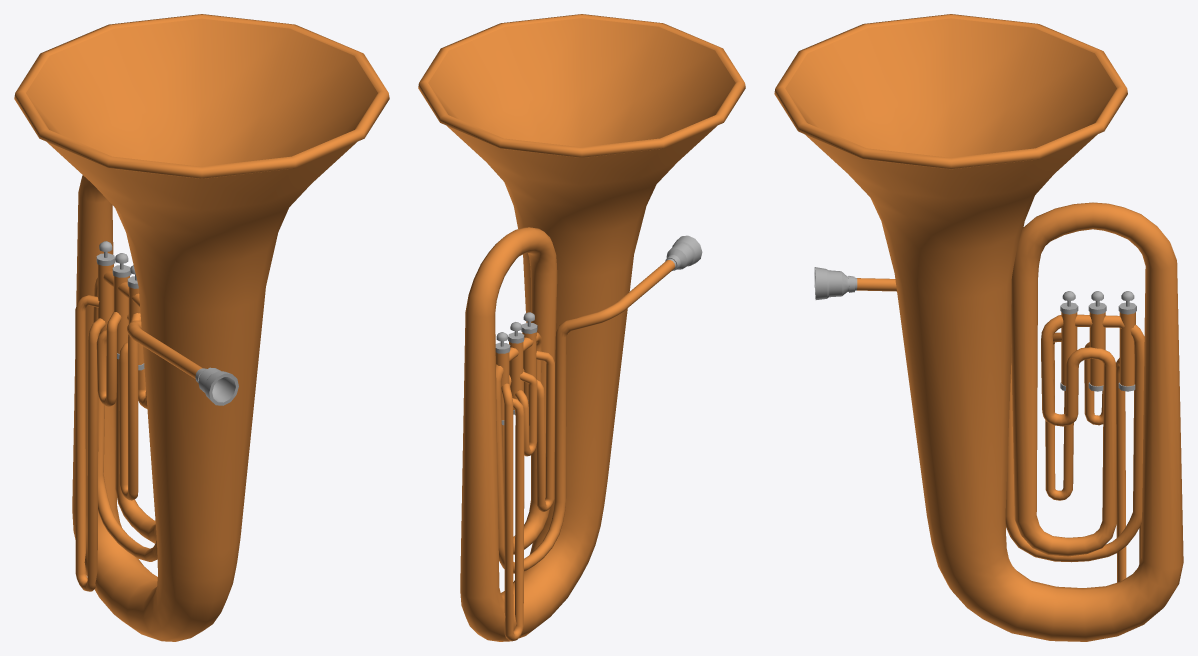
The model's file is Tuba_01.fbx.
3 views of the same model, side by side, from view 1: azimuth 30°, elevation 25°; view 2: azimuth 150°, elevation 25°; view 3: azimuth 270°, elevation 25° (orthographic). The views are drawn at different scales.
Visible parts, largest first — view 1: Tuba_01; view 2: Tuba_01; view 3: Tuba_01.
Part boxes in pixels (x1,y1,x2,y2): Tuba_01: [14, 14, 389, 641]; Tuba_01: [418, 14, 745, 641]; Tuba_01: [774, 14, 1183, 641].
Bounding box in the file's own units: 0.4428 × 0.7609 × 0.5124.
